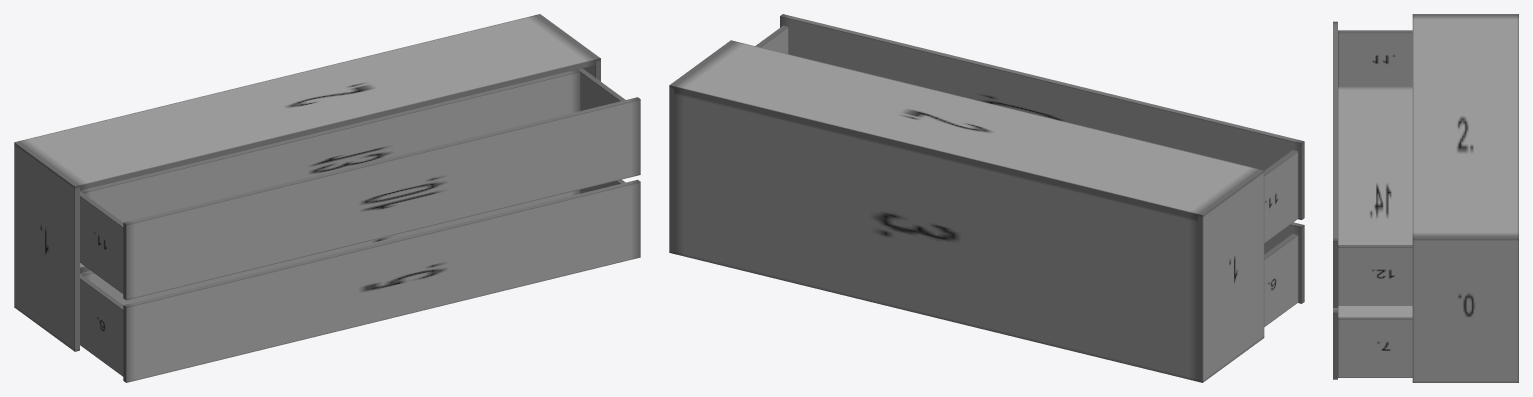
File: meublen.glb
3 renders of one model, left to right at view 1: azimuth 30°, elevation 25°; view 2: azimuth 150°, elevation 25°; view 3: azimuth 270°, elevation 25°, orthographic. The views are drawn at different scales.
Visible parts, largest first — view 1: world; view 2: world; view 3: world.
Part boxes in pixels (x1,y1,x2,y2): world: (14,14,640,382); world: (669,14,1304,382); world: (1333,14,1518,382).
Size of the model in its own units: 2 by 0.6 by 0.7.
1 material, 1 textured.
